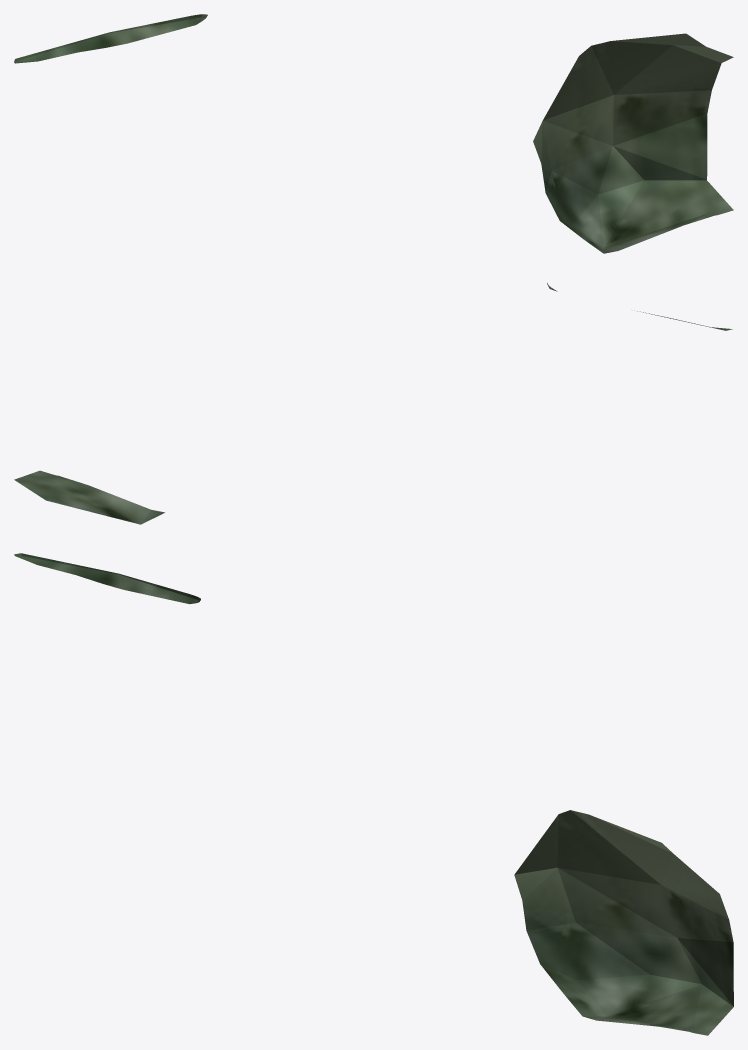
3 renders of one model, top to bottom at view 1: azimuth 30°, elevation 25°; view 2: azimuth 150°, elevation 25°; view 3: azimuth 330°, elevation 25°, orthographic. The views are drawn at different scales.
Size of the model in its own units: 2.2 by 0.9977 by 0.2353.
Materials: 1 (1 with a texture image).
